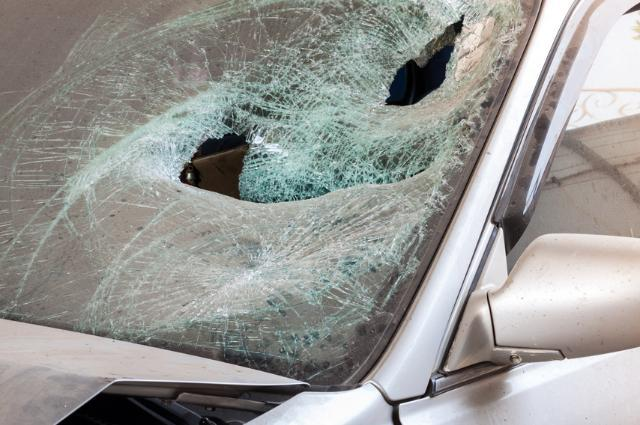Windshield: (0, 0, 465, 379)
